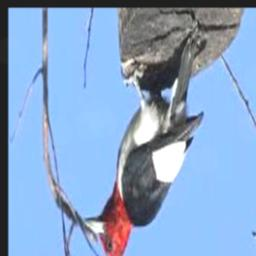Woodpecker: (83, 37, 203, 256)
